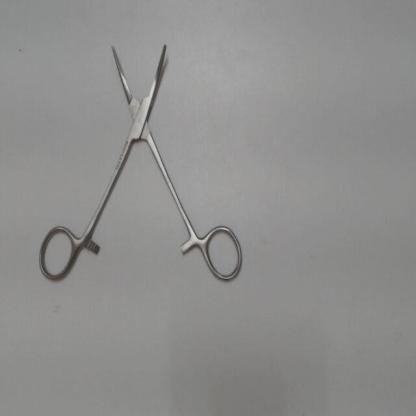Crile Artery Forceps: (32, 39, 248, 292)
